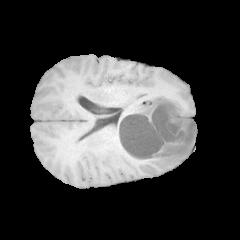glioma: (116, 97, 197, 167)
